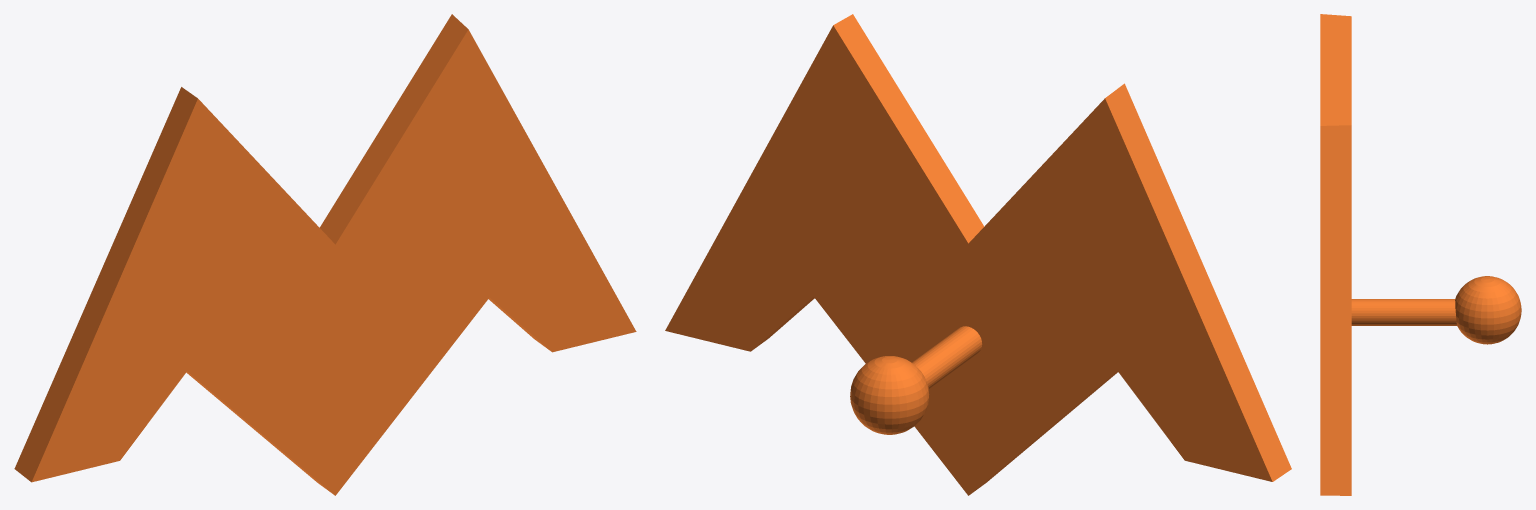
Rendered from MiddlePiece.fbx.
3 views of the same model, side by side, from view 1: azimuth 30°, elevation 25°; view 2: azimuth 150°, elevation 25°; view 3: azimuth 270°, elevation 25° (orthographic). The views are drawn at different scales.
Visible parts, largest first — view 1: MiddleHanoi; view 2: MiddleHanoi, BallMiddle, MiddleCylinder; view 3: MiddleHanoi, BallMiddle, MiddleCylinder.
Part boxes in pixels (x1,y1,x2,y2): MiddleHanoi: (14,14,636,495); MiddleHanoi: (665,14,1291,495); BallMiddle: (850,356,929,434); MiddleCylinder: (912,326,982,388); MiddleHanoi: (1320,14,1351,495); BallMiddle: (1455,276,1521,344); MiddleCylinder: (1351,299,1456,325).
Bounding box in the file's own units: 69.71 × 47.91 × 23.1.
Materials: 1 (1 with a texture image).
